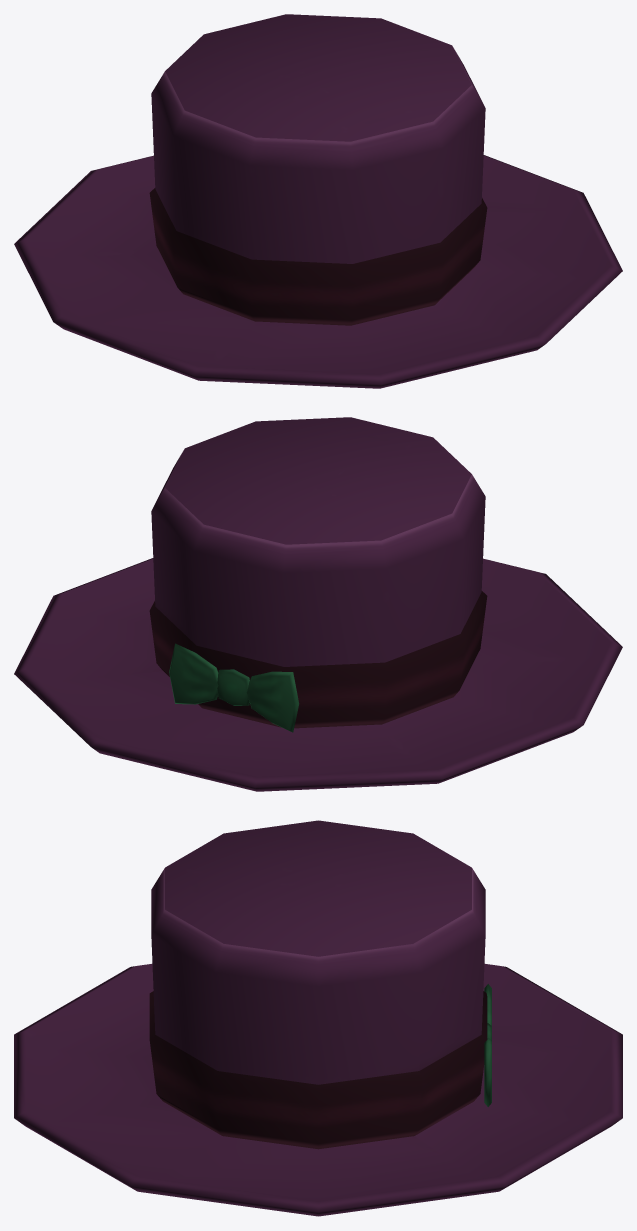
File: Clownhat_2.fbx
The picture shows the model from 3 angles, top to bottom: view 1: azimuth 30°, elevation 25°; view 2: azimuth 150°, elevation 25°; view 3: azimuth 270°, elevation 25°; orthographic projection. The views are drawn at different scales.
Visible parts, largest first — view 1: ClownHat_2; view 2: ClownHat_2, ClownHat_Bow_2; view 3: ClownHat_2, ClownHat_Bow_2.
Boxes of the visible parts, x1,y1,x2,y2 form: ClownHat_2: (14,14,622,388); ClownHat_2: (14,417,622,791); ClownHat_Bow_2: (169,643,299,732); ClownHat_2: (14,820,622,1216); ClownHat_Bow_2: (484,984,491,1106).
Bounding box in the file's own units: 2.98 × 1.04 × 2.83.
